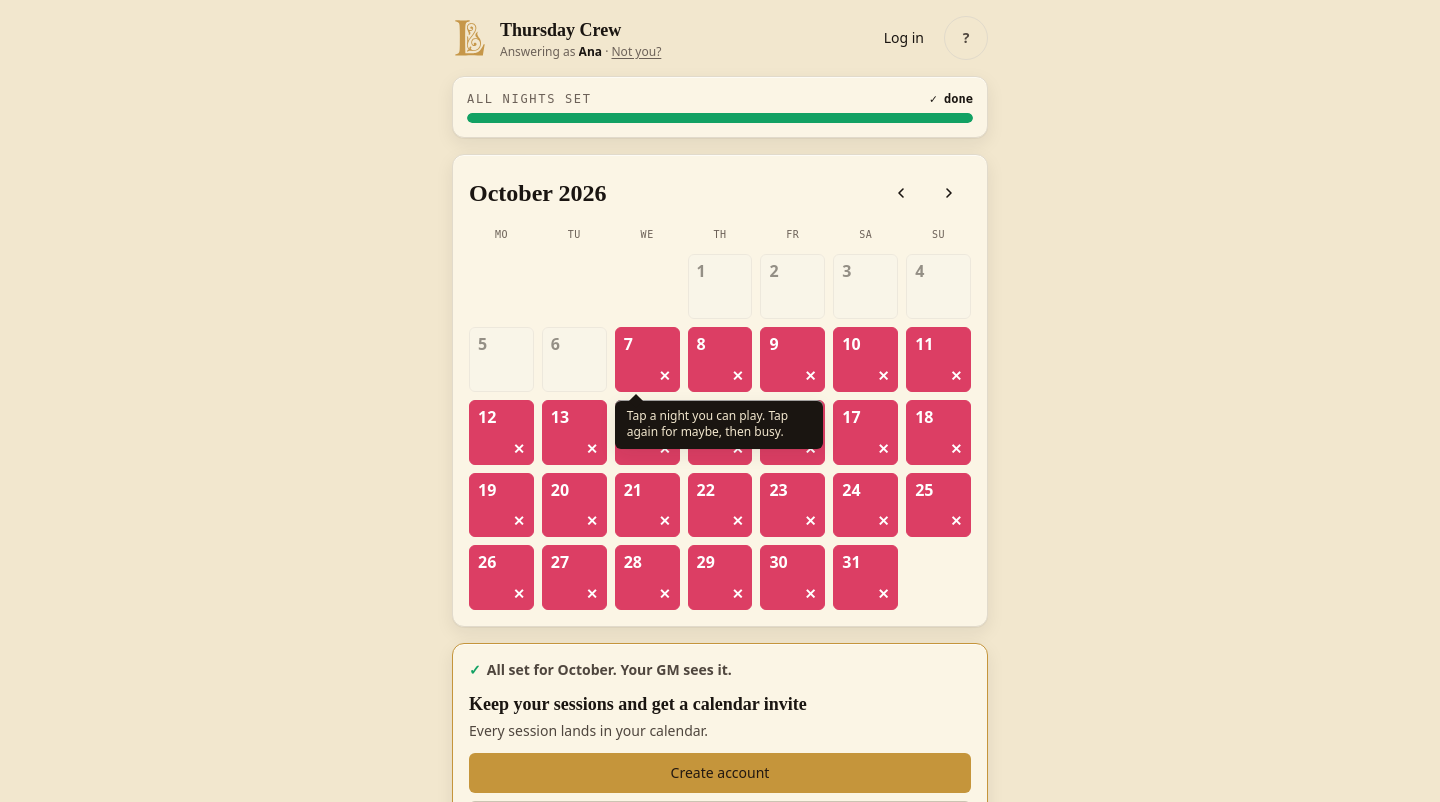
it: PlayerScreen › opens the keep sheet from the done card of a visitor who finished the month
Click the button "Create account".
click(720, 773)  # box [469,753,971,793]
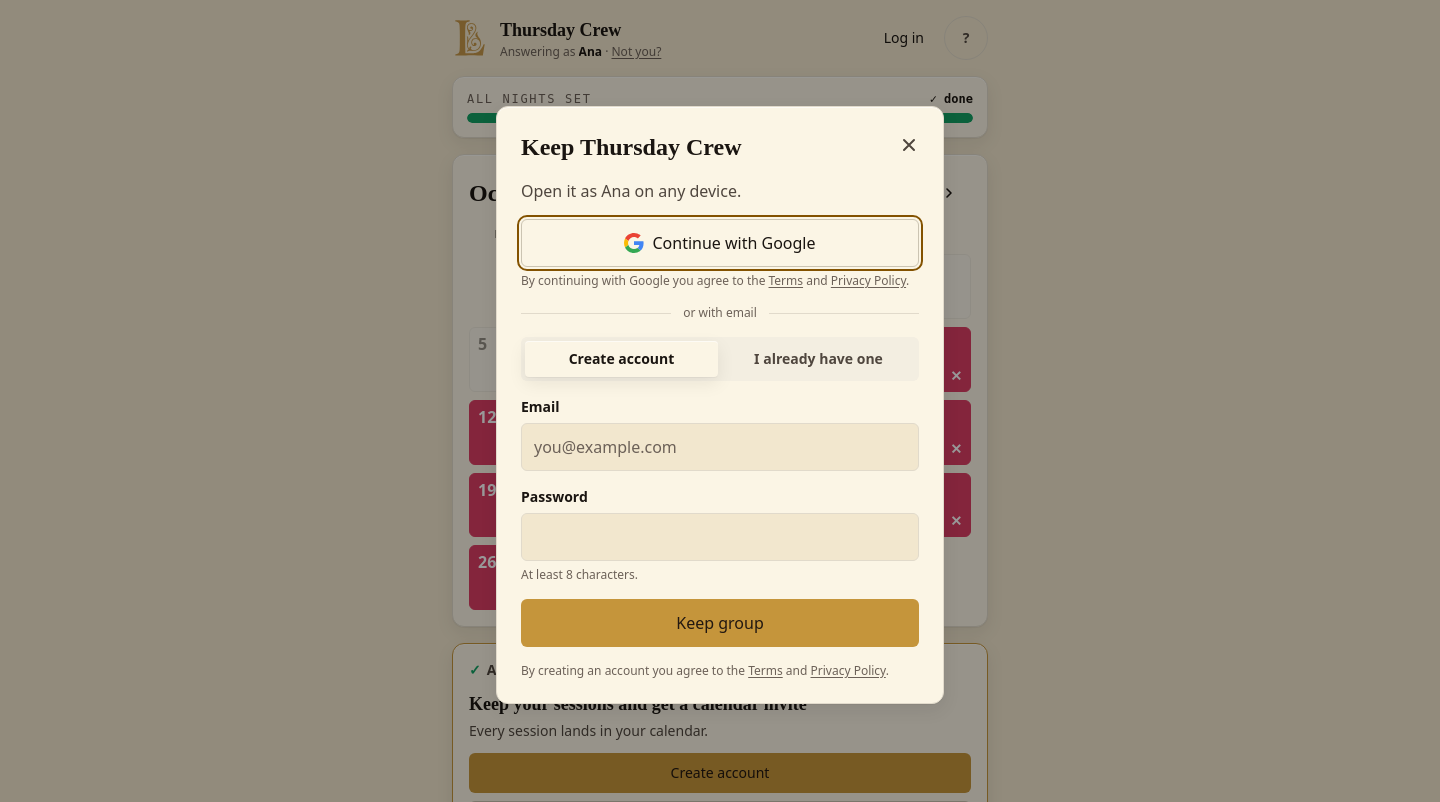
Expected: the dialog "Keep Thursday Crew" is shown, [496,106,944,704]
